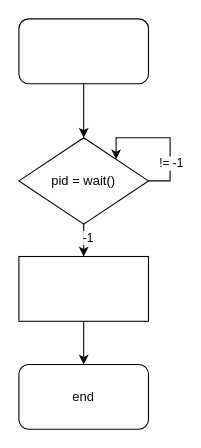
This 201x448 diagram has some shape labels left out. The box of each missing label's shape, as (x1, y1, x2, y2) in pixels:
initialize INFO linked list: (18, 255, 148, 321)
start: (18, 18, 148, 84)
